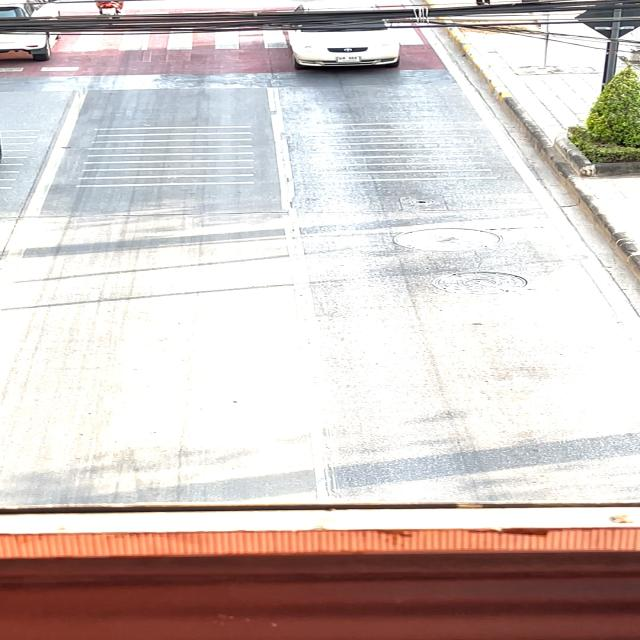car: (264, 0, 402, 87)
